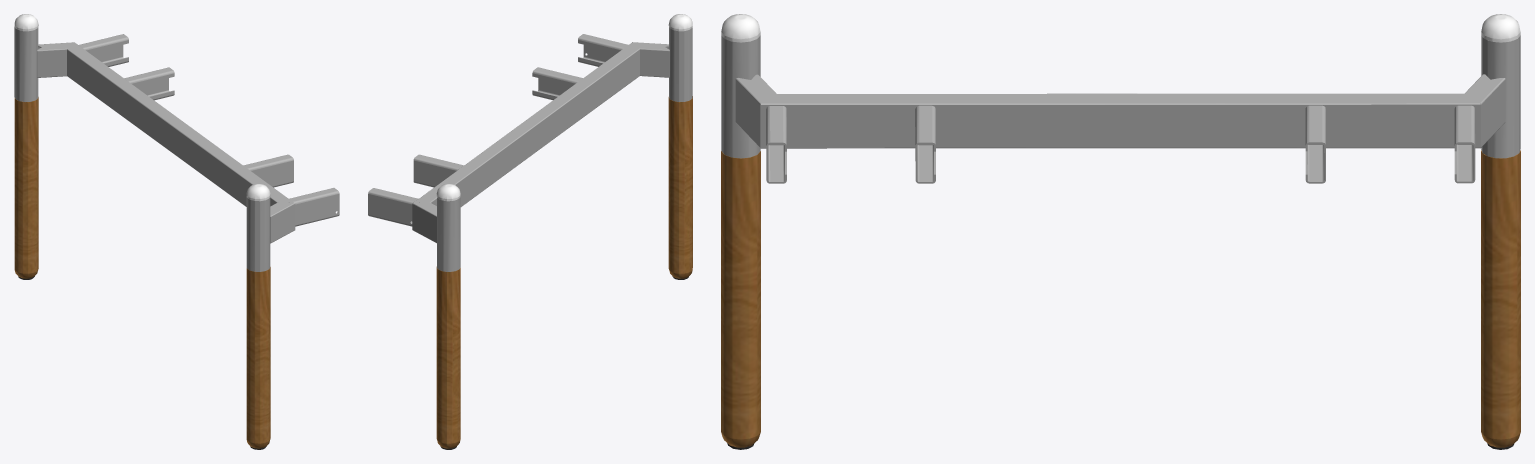
The model's file is HSO100000.glb.
The picture shows the model from 3 angles, left to right: view 1: azimuth 30°, elevation 25°; view 2: azimuth 150°, elevation 25°; view 3: azimuth 270°, elevation 25°; orthographic projection. The views are drawn at different scales.
Visible parts, largest first — view 1: 31, 8 (×2), 7 (×2), 36, 34, 33, 32, 35, 30, 29, 28; view 2: 31, 7 (×2), 8 (×2), 34, 36, 30, 29, 28, 32, 33, 35; view 3: 31, 7 (×2), 8 (×2), 34, 36, 28, 35, 30, 29, 32, 33.
Boxes of the visible parts, box(x1,y1,x2,y2) form: 31: box(67, 42, 293, 206); 8 (×2): box(14, 14, 270, 448); 7 (×2): box(14, 97, 270, 278); 36: box(246, 197, 270, 271); 34: box(14, 26, 38, 101); 33: box(289, 188, 339, 226); 32: box(243, 154, 293, 187); 35: box(37, 42, 73, 77); 30: box(79, 34, 128, 66); 29: box(124, 67, 174, 100); 28: box(270, 202, 295, 243); 31: box(413, 42, 639, 206); 7 (×2): box(436, 14, 692, 448); 8 (×2): box(436, 96, 692, 278); 34: box(437, 196, 460, 271); 36: box(669, 27, 692, 101); 30: box(368, 188, 418, 226); 29: box(413, 154, 463, 187); 28: box(632, 42, 669, 77); 32: box(532, 67, 582, 100); 33: box(578, 34, 628, 66); 35: box(412, 202, 436, 243); 31: box(760, 93, 1480, 148); 7 (×2): box(721, 14, 1520, 447); 8 (×2): box(721, 14, 1520, 447); 34: box(1481, 35, 1520, 158); 36: box(721, 35, 760, 158); 28: box(735, 74, 776, 148); 35: box(1465, 74, 1505, 148); 30: box(1454, 105, 1475, 183); 29: box(1305, 105, 1325, 183); 32: box(915, 105, 935, 183); 33: box(766, 106, 786, 183).
Size of the model in its own units: 0.1513 by 0.3795 by 0.6437.
4 materials, 1 textured.
